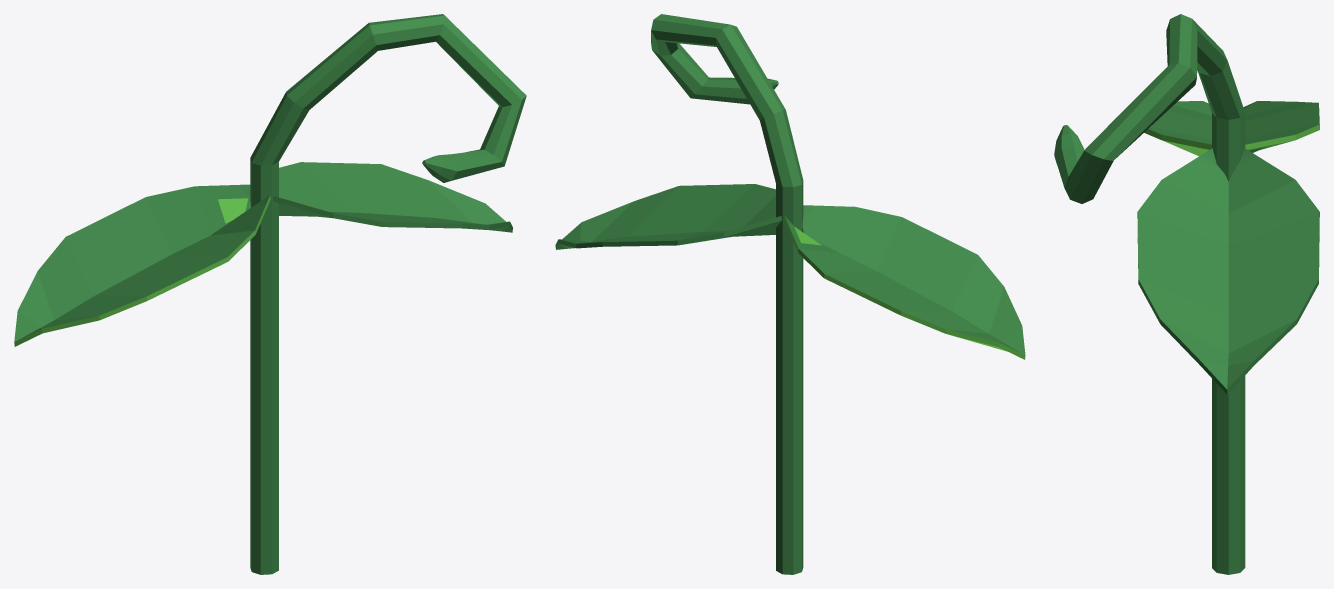
Rendered from pumpkin_seedling.fbx.
3 views of the same model, side by side, from view 1: azimuth 30°, elevation 25°; view 2: azimuth 150°, elevation 25°; view 3: azimuth 270°, elevation 25° (orthographic). The views are drawn at different scales.
Visible parts, largest first — view 1: pumpkin_seedling; view 2: pumpkin_seedling; view 3: pumpkin_seedling.
Part boxes in pixels (x1=…): pumpkin_seedling: x1=14, y1=14, x2=526, y2=574; pumpkin_seedling: x1=555, y1=14, x2=1025, y2=574; pumpkin_seedling: x1=1054, y1=14, x2=1319, y2=574.
Bounding box in the file's own units: 37.72 × 39.04 × 15.69.
